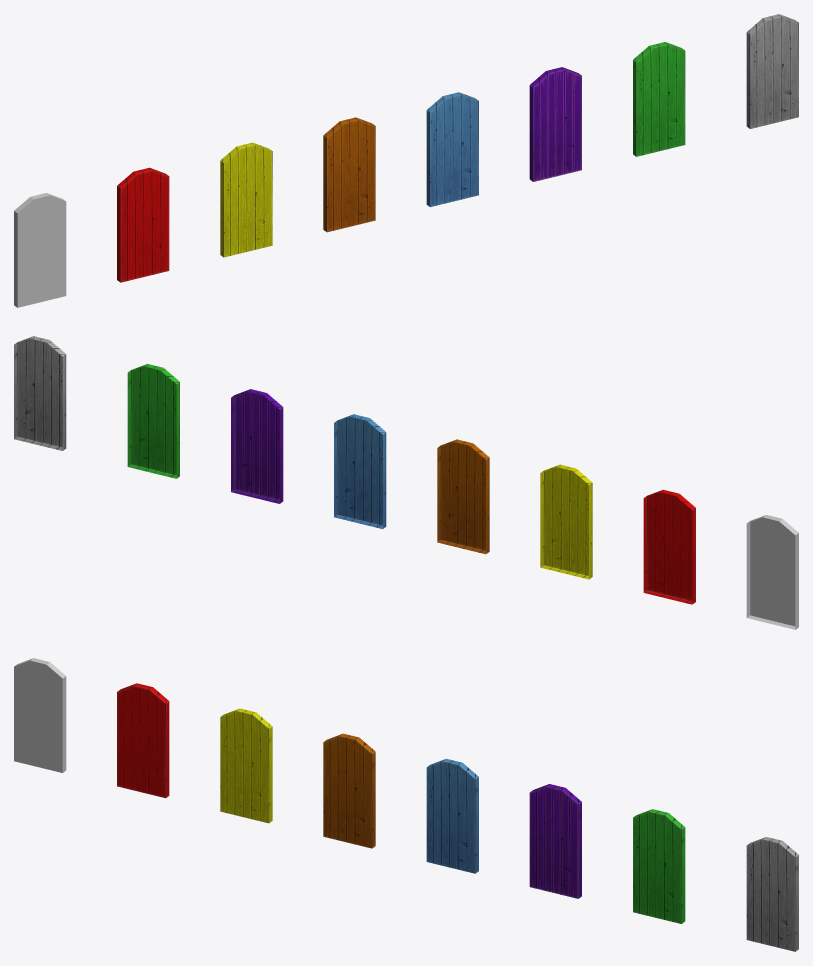
File: puertas.fbx
The picture shows the model from 3 angles, top to bottom: view 1: azimuth 30°, elevation 25°; view 2: azimuth 150°, elevation 25°; view 3: azimuth 330°, elevation 25°; orthographic projection.
Visible parts, largest first — view 1: polySurface267, polySurface269, polySurface273, polySurface271, polySurface270, polySurface268, polySurface274, polySurface272; view 2: polySurface267, polySurface269, polySurface273, polySurface271, polySurface270, polySurface268, polySurface274, polySurface272; view 3: polySurface271, polySurface274, polySurface268, polySurface270, polySurface272, polySurface273, polySurface267, polySurface269.
Part boxes in pixels (x1,y1,x2,y2): polySurface267: [14, 193, 66, 307]; polySurface269: [220, 142, 272, 257]; polySurface273: [633, 42, 685, 156]; polySurface271: [426, 92, 478, 207]; polySurface270: [323, 117, 375, 232]; polySurface268: [117, 167, 169, 282]; polySurface274: [746, 14, 798, 128]; polySurface272: [529, 67, 581, 181]; polySurface267: [746, 515, 798, 629]; polySurface269: [540, 464, 592, 579]; polySurface273: [127, 364, 179, 478]; polySurface271: [334, 414, 386, 529]; polySurface270: [437, 439, 489, 554]; polySurface268: [643, 489, 695, 604]; polySurface274: [14, 336, 66, 450]; polySurface272: [231, 389, 283, 503]; polySurface271: [426, 758, 478, 873]; polySurface274: [746, 837, 798, 951]; polySurface268: [117, 683, 169, 798]; polySurface270: [323, 733, 375, 848]; polySurface272: [529, 784, 581, 898]; polySurface273: [633, 809, 685, 923]; polySurface267: [14, 658, 66, 772]; polySurface269: [220, 708, 272, 823].
Bounding box in the file's own units: 11407 × 1458 × 89.99.
